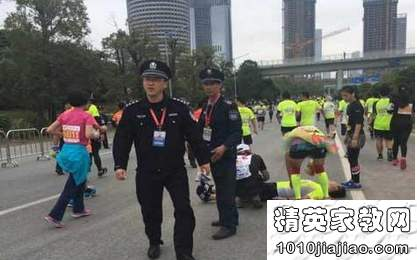10+: (36, 56, 417, 260)
down: (260, 174, 346, 201)
